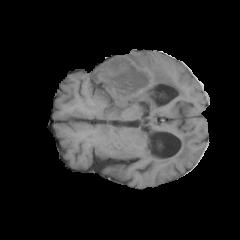glioma: (91, 54, 187, 115)
